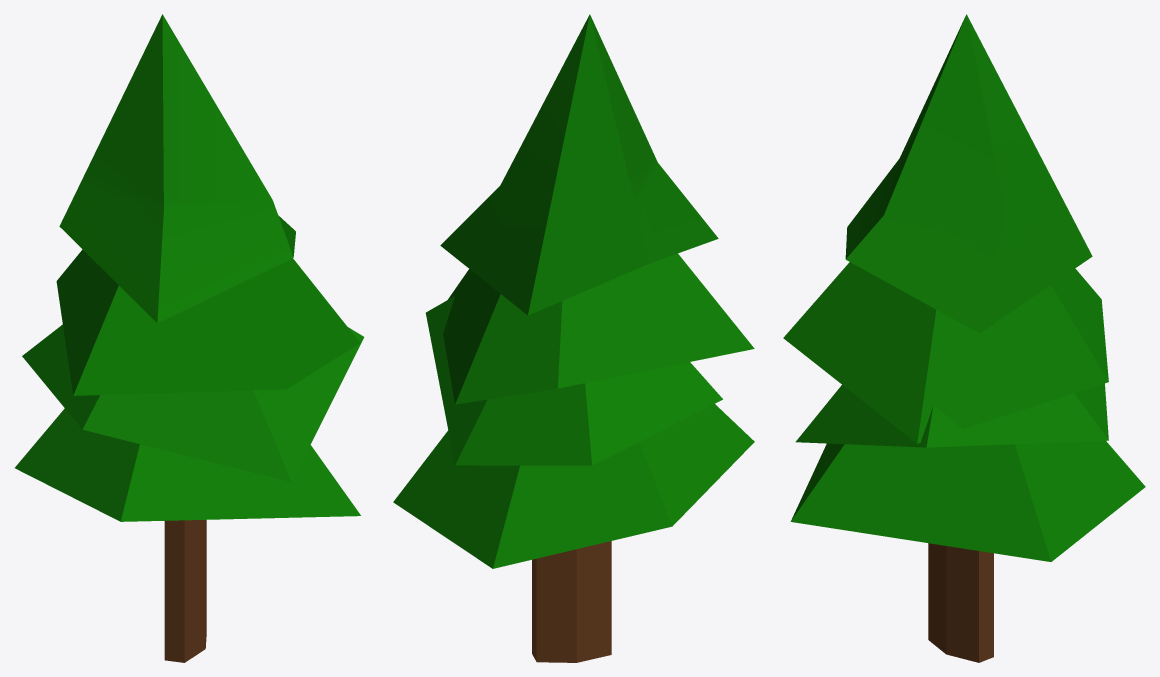
Rendered from LowPolyTree.fbx.
The picture shows the model from 3 angles, left to right: view 1: azimuth 30°, elevation 25°; view 2: azimuth 150°, elevation 25°; view 3: azimuth 270°, elevation 25°; orthographic projection. The views are drawn at different scales.
Visible parts, largest first — view 1: trees; view 2: trees; view 3: trees.
Boxes of the visible parts, box(x1,y1,x2,y2) form: trees: box(15, 14, 364, 662); trees: box(393, 14, 754, 662); trees: box(783, 14, 1145, 662).
Bounding box in the file's own units: 235 × 464 × 244.
